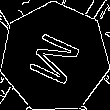M_SE: (23, 26, 87, 89)
